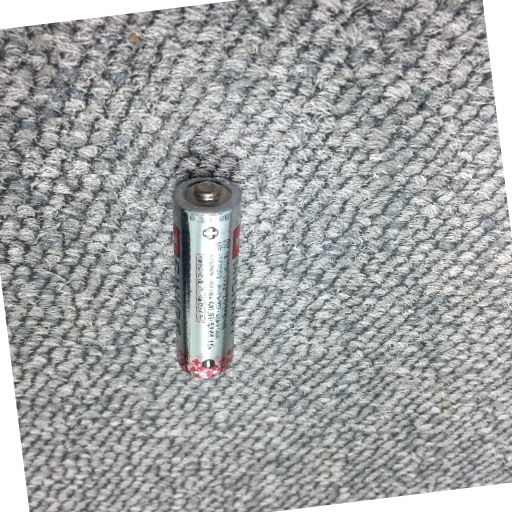Battery_0: (166, 170, 245, 384)
